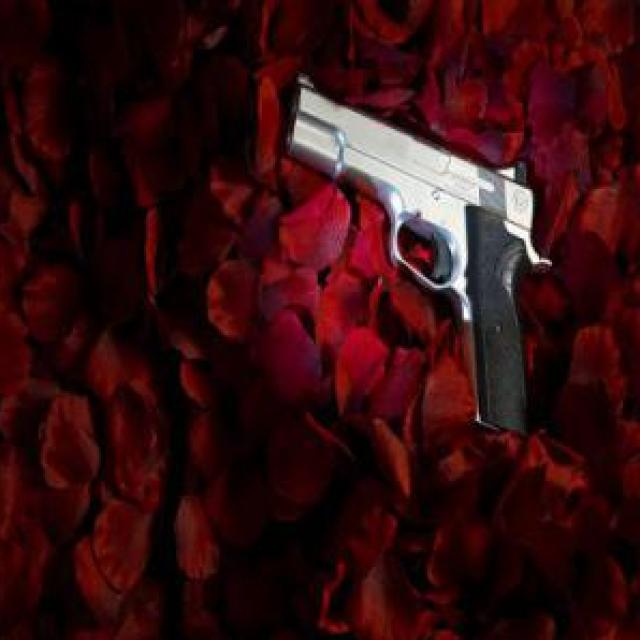pistol: (284, 69, 554, 442)
